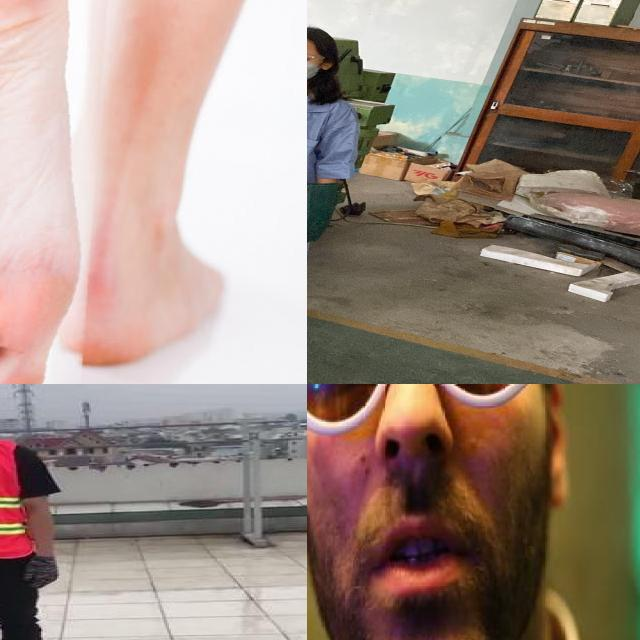Barefoots: (0, 0, 86, 384), (56, 210, 246, 381)
face_mask: (307, 47, 321, 80)
face_nomask: (307, 384, 520, 607)
glasses: (307, 384, 550, 432), (307, 46, 327, 64)
hand_glove: (21, 558, 59, 587), (307, 206, 332, 245)
head_nohelmet: (307, 21, 331, 49)
person: (307, 18, 379, 362), (0, 384, 67, 640)
vest: (0, 440, 30, 558)
